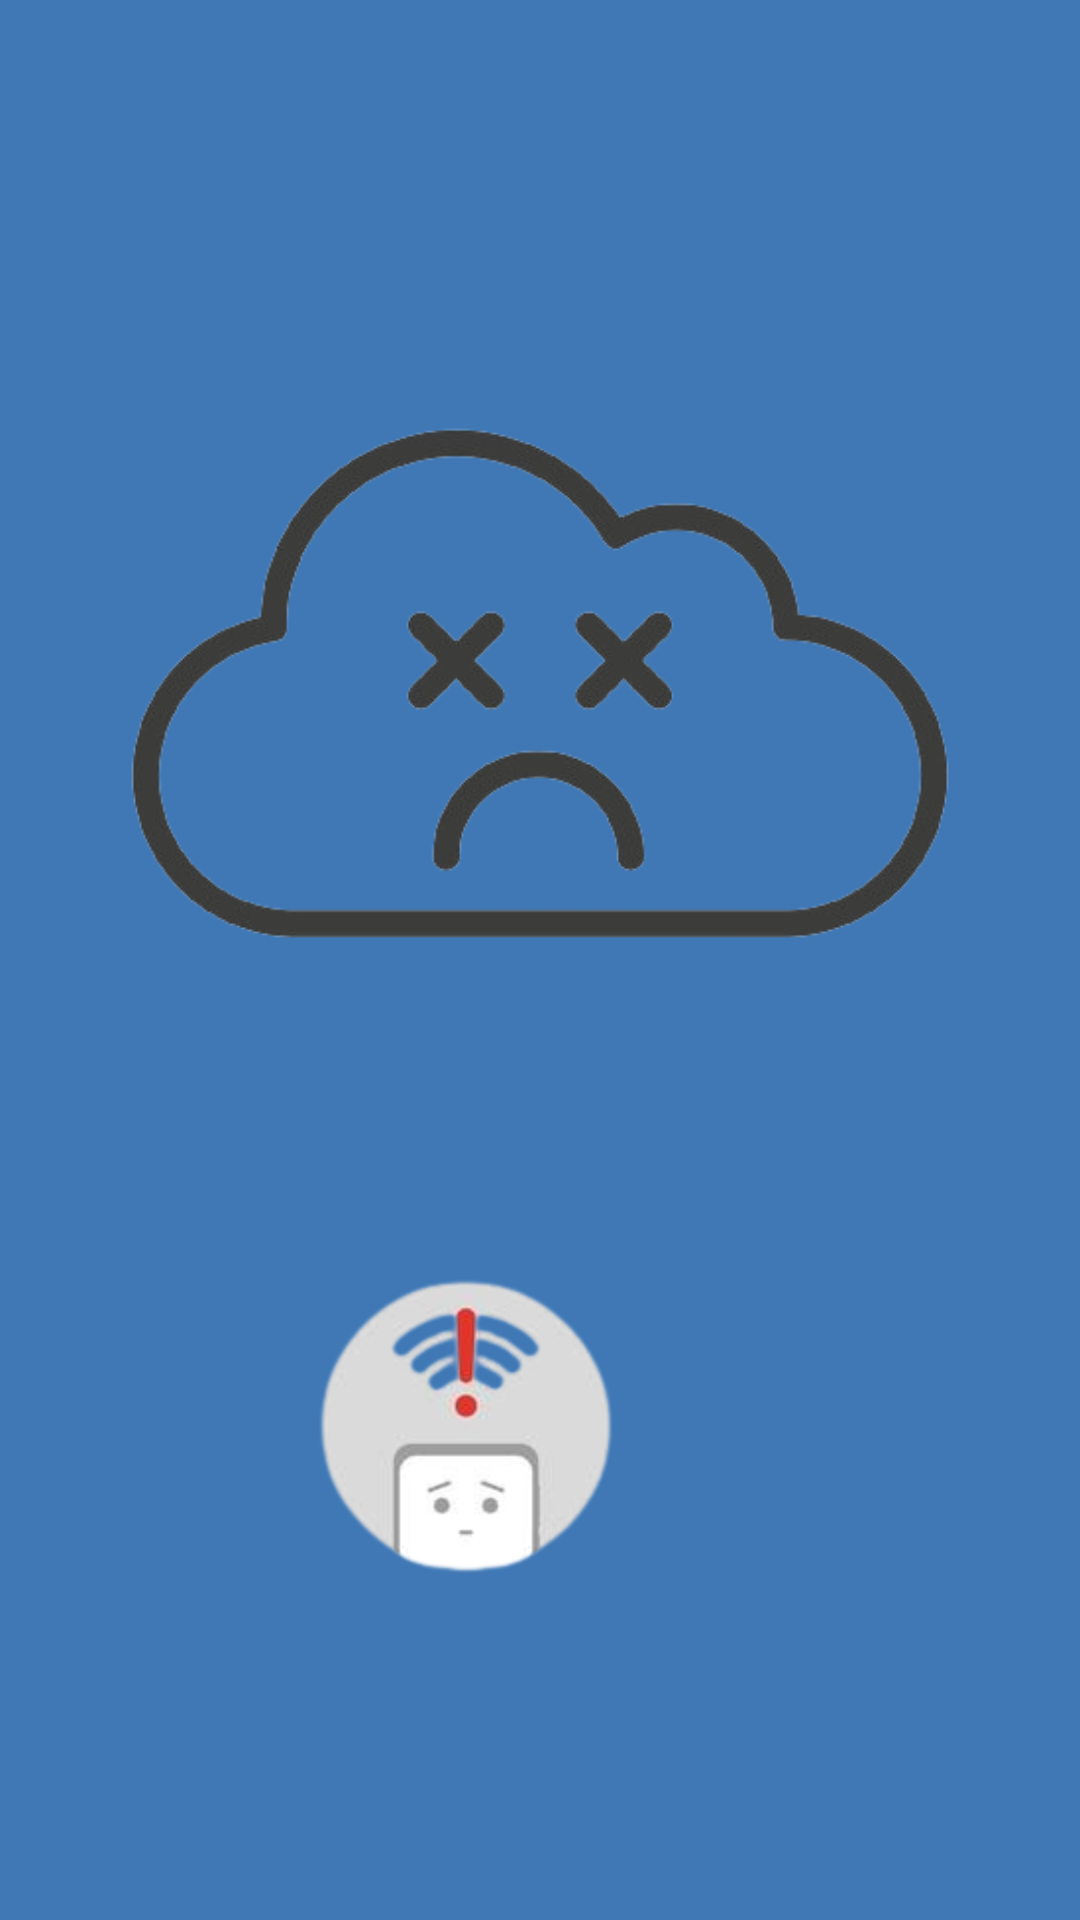

Screen size 1080w x 1920h. Icon name, then its box in pixels as (x1, y1, x2, y2):
Mobile no connection: (321, 1281, 611, 1572)
